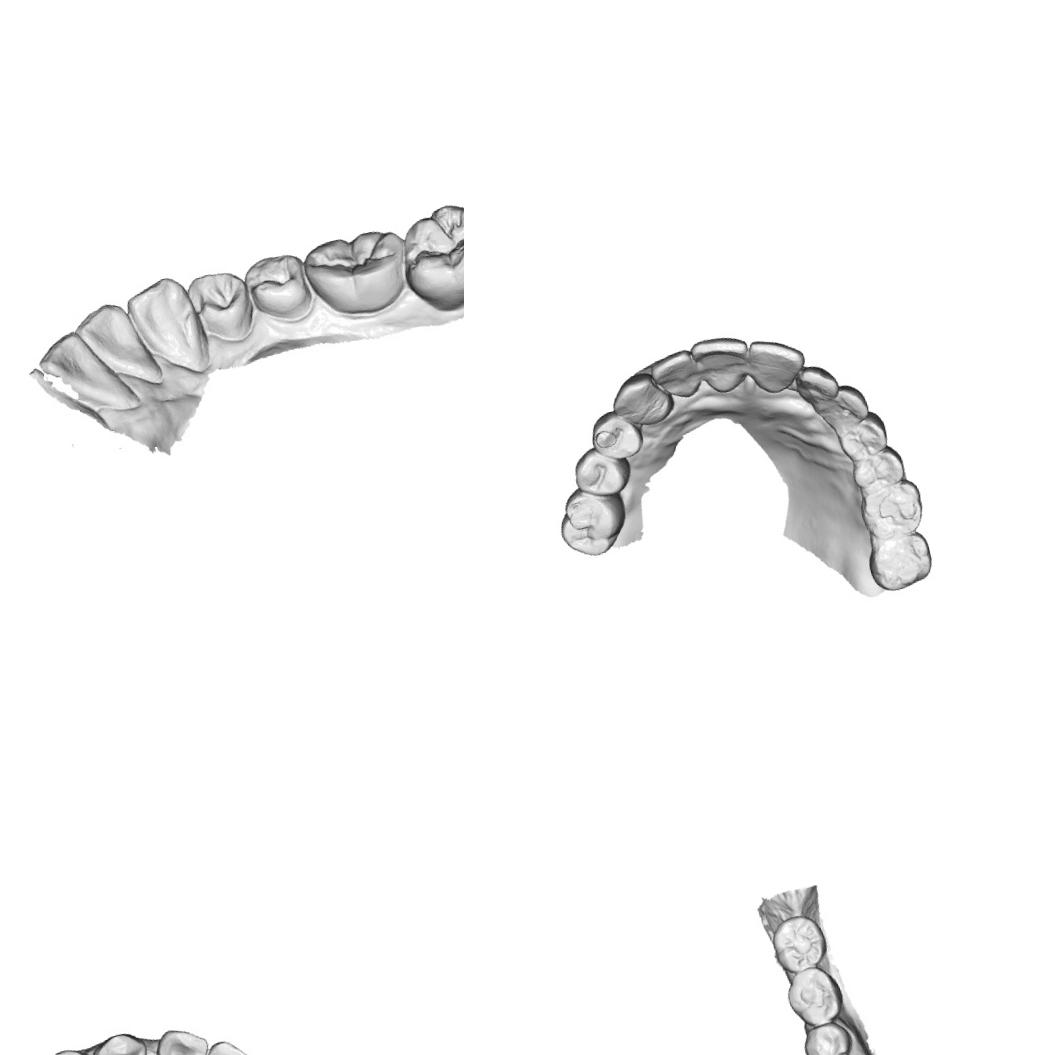canine: (120, 268, 217, 388), (606, 366, 678, 434), (814, 380, 874, 436), (87, 1027, 154, 1055)
incisor: (31, 318, 139, 430), (67, 290, 166, 399), (686, 330, 757, 400), (744, 330, 811, 398), (646, 347, 702, 405), (792, 359, 843, 409), (150, 1021, 214, 1055), (192, 1032, 268, 1055)
molar: (296, 220, 416, 328), (391, 190, 464, 319), (551, 478, 634, 563), (863, 528, 940, 596), (781, 961, 849, 1033), (855, 476, 928, 542), (766, 910, 832, 977)
premolar: (236, 243, 321, 330), (182, 261, 262, 352), (568, 439, 636, 503), (585, 404, 647, 465), (832, 408, 892, 464), (848, 442, 907, 493), (798, 1018, 857, 1055)
